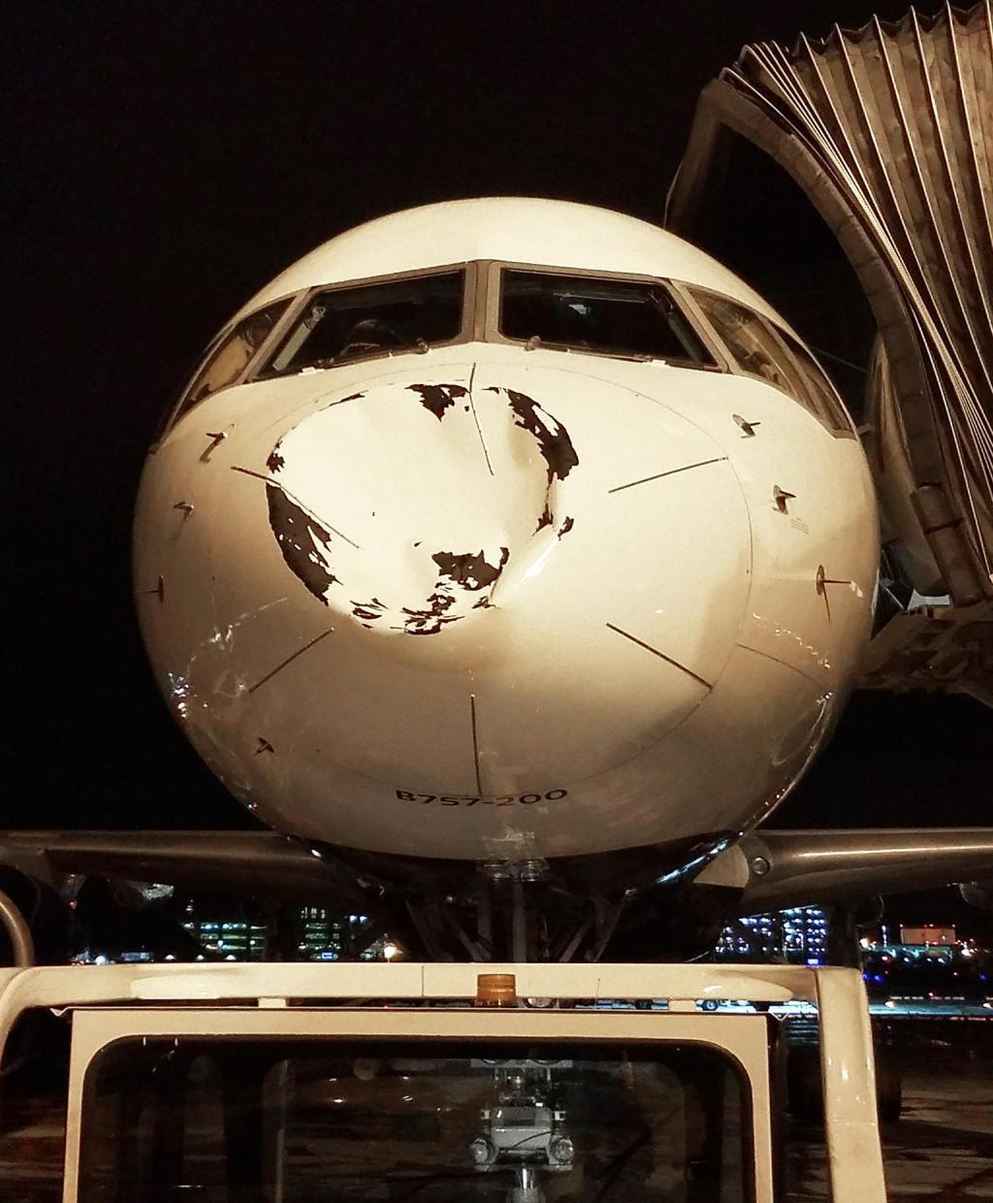dent: (263, 383, 575, 634)
